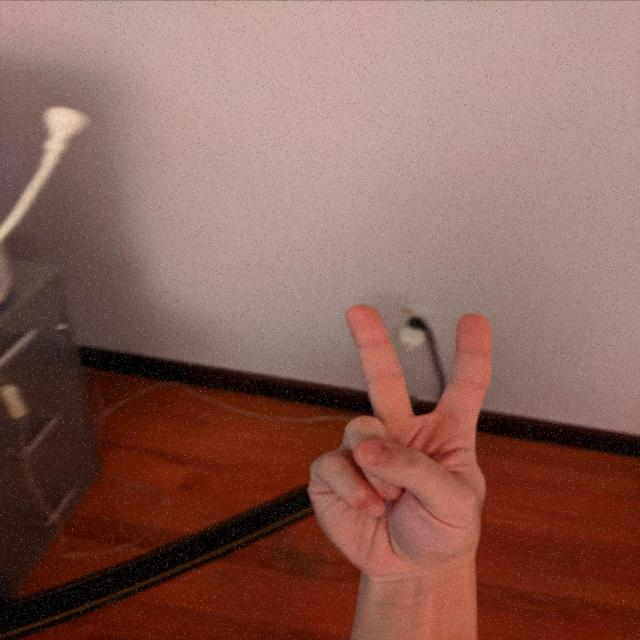V: (300, 301, 499, 578)
